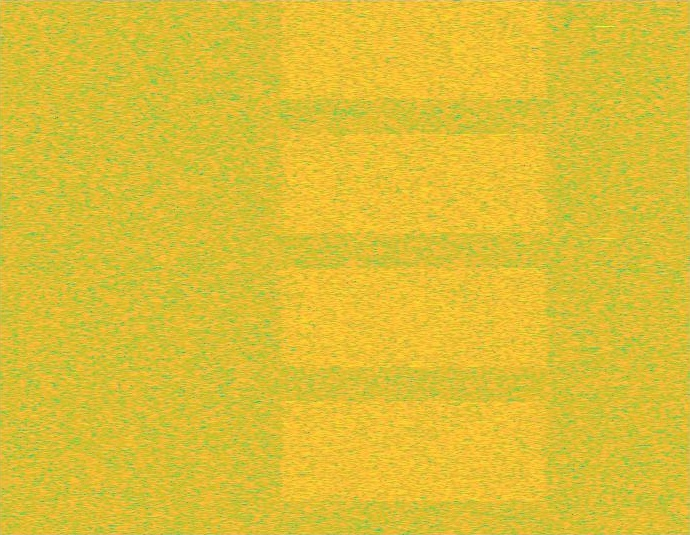5G: (276, 0, 552, 534)
Radar: (598, 0, 612, 534)
